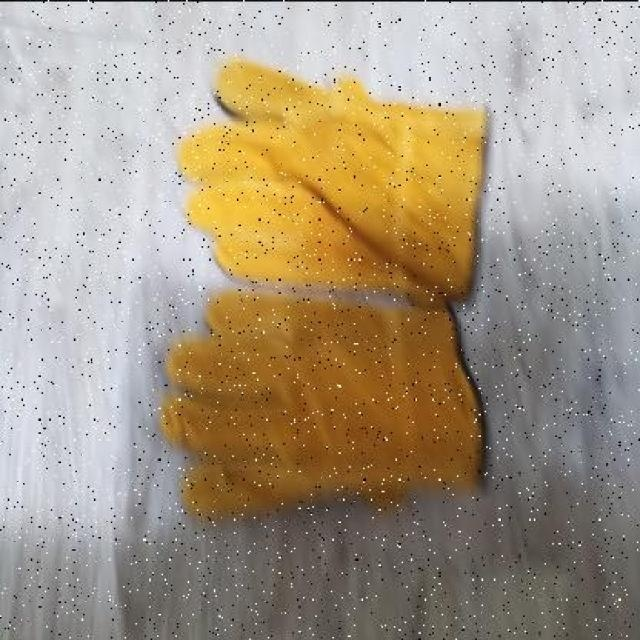Guantes: (158, 55, 490, 522)
